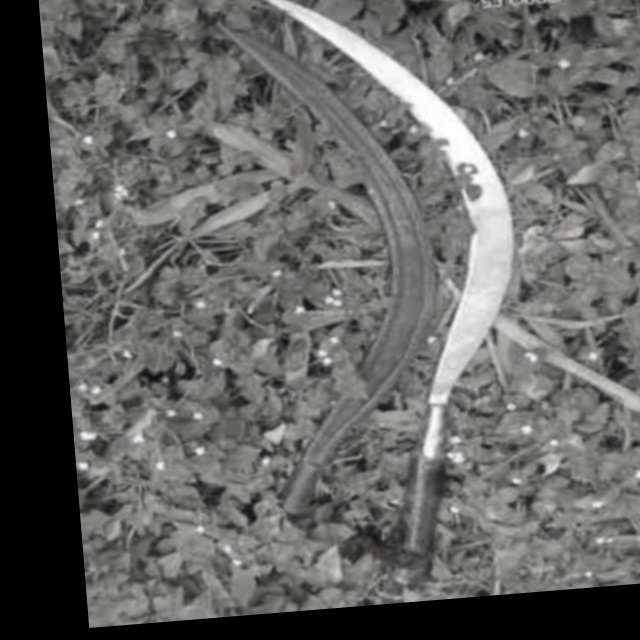Sharp-Object: (252, 0, 548, 610)
